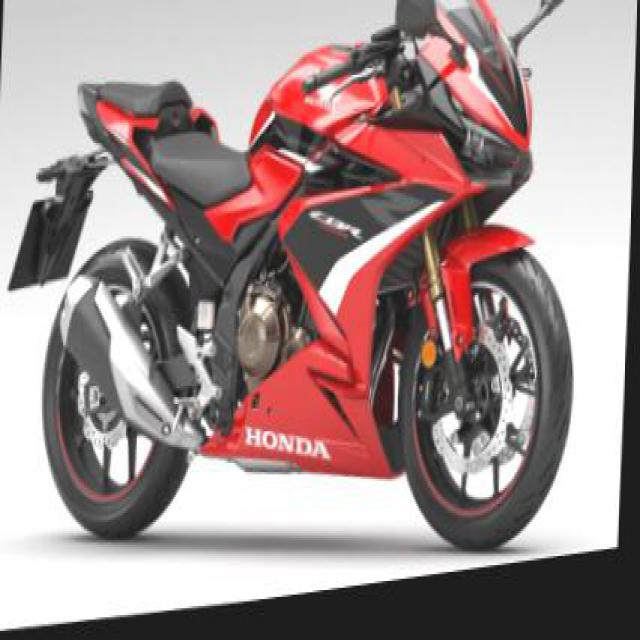CBR500R: (36, 0, 592, 622)
